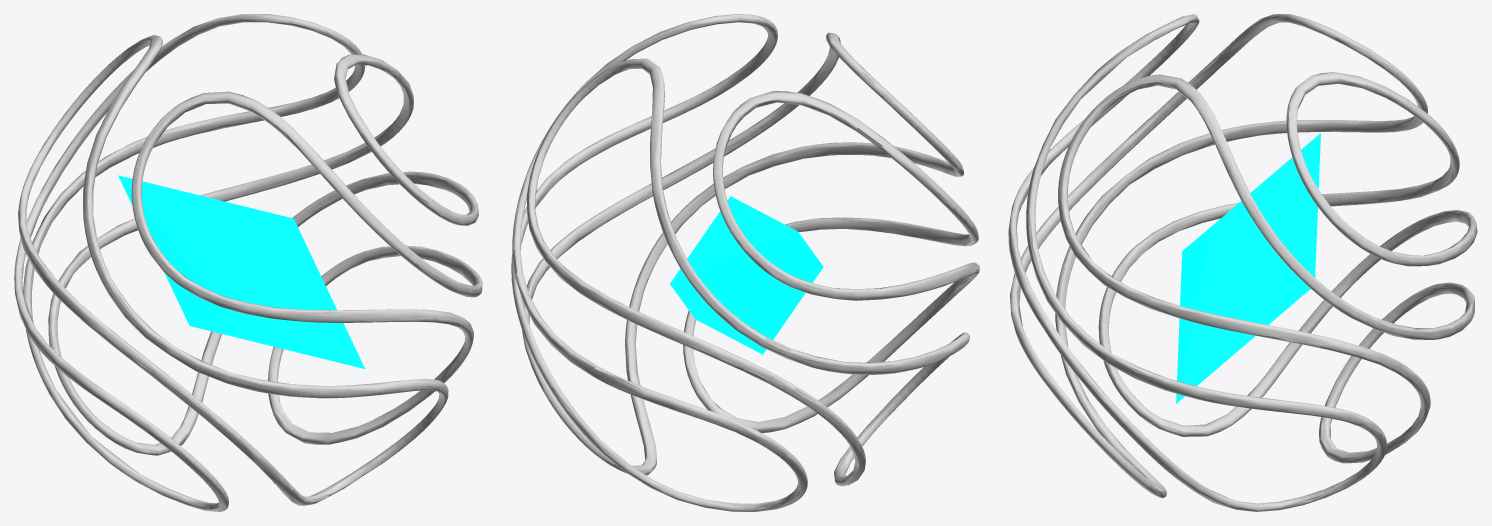
File: coin.glb
The picture shows the model from 3 angles, left to right: view 1: azimuth 30°, elevation 25°; view 2: azimuth 150°, elevation 25°; view 3: azimuth 270°, elevation 25°; orthographic projection.
Visible parts, largest first — view 1: Shield, Crystal; view 2: Shield, Crystal; view 3: Shield, Crystal.
Boxes of the visible parts, x1=… form: Shield: x1=14, y1=14, x2=482, y2=511; Crystal: x1=118, y1=175, x2=364, y2=368; Shield: x1=511, y1=14, x2=979, y2=511; Crystal: x1=670, y1=196, x2=823, y2=354; Shield: x1=1008, y1=14, x2=1477, y2=511; Crystal: x1=1176, y1=133, x2=1320, y2=403.
Bounding box in the file's own units: 1 × 0.9985 × 1.
